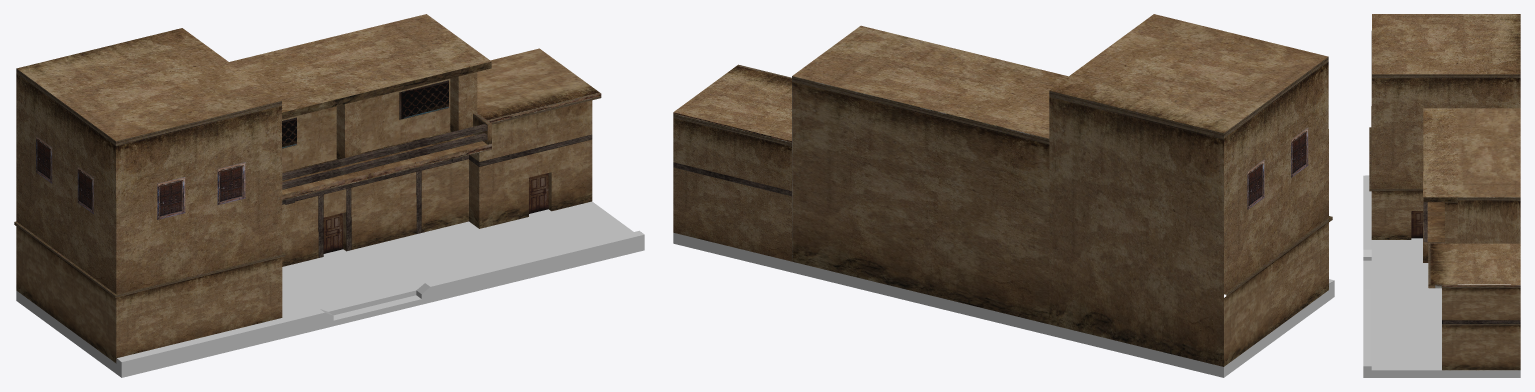
The model's file is BuildingN.fbx.
3 renders of one model, left to right at view 1: azimuth 30°, elevation 25°; view 2: azimuth 150°, elevation 25°; view 3: azimuth 270°, elevation 25°, orthographic. The views are drawn at different scales.
Parts seen in each view (by area): view 1: BuildingN; view 2: BuildingN; view 3: BuildingN.
Part boxes in pixels (bbox=[...]): BuildingN: bbox=[14, 14, 644, 377]; BuildingN: bbox=[673, 14, 1334, 377]; BuildingN: bbox=[1363, 14, 1520, 377].
Size of the model in its own units: 3188 by 1348 by 1107.
